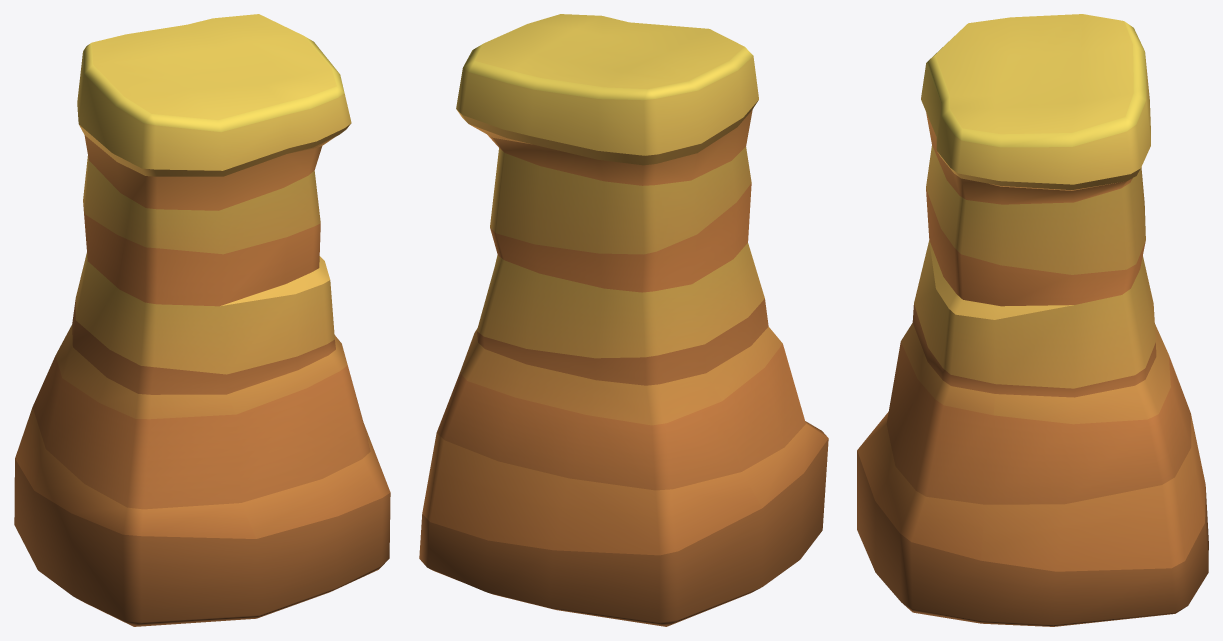
Rendered from rock_formation_light_03.fbx.
3 renders of one model, left to right at view 1: azimuth 30°, elevation 25°; view 2: azimuth 150°, elevation 25°; view 3: azimuth 270°, elevation 25°, orthographic. The views are drawn at different scales.
Parts seen in each view (by area): view 1: rock_formation_light_03; view 2: rock_formation_light_03; view 3: rock_formation_light_03.
Part boxes in pixels (x1,y1,x2,y2): rock_formation_light_03: (14, 14, 390, 626); rock_formation_light_03: (419, 14, 828, 626); rock_formation_light_03: (857, 14, 1208, 626).
Size of the model in its own units: 529 by 808 by 513.
